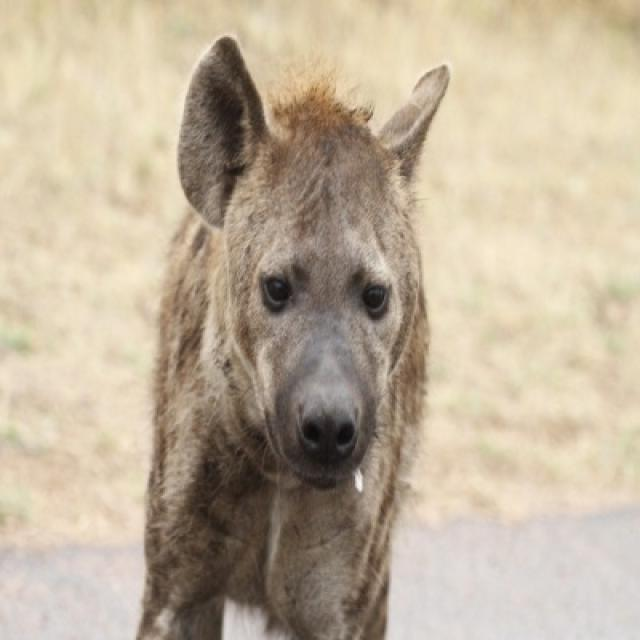hyena: (134, 35, 451, 638)
